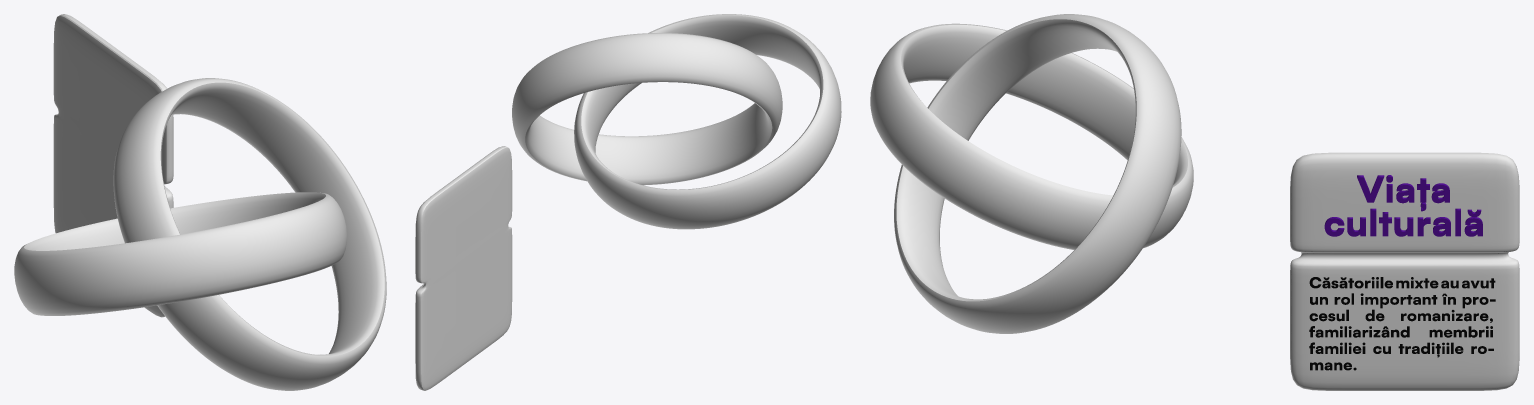
File: Rings scaled.fbx
The picture shows the model from 3 angles, left to right: view 1: azimuth 30°, elevation 25°; view 2: azimuth 150°, elevation 25°; view 3: azimuth 270°, elevation 25°; orthographic projection. The views are drawn at different scales.
Parts seen in each view (by area): view 1: Circle.008, Circle.009, Plane.076; view 2: Circle.008, Circle.009, Plane.076; view 3: Plane.076, Circle.008, Circle.009, Text.014, Text.006.
Boxes of the visible parts, <box> form: Circle.008: <box>113,78,386,390</box>; Circle.009: <box>14,192,346,315</box>; Plane.076: <box>53,14,173,317</box>; Circle.008: <box>512,33,782,185</box>; Circle.009: <box>574,14,841,229</box>; Plane.076: <box>415,146,512,390</box>; Plane.076: <box>1290,152,1519,390</box>; Circle.008: <box>894,14,1181,333</box>; Circle.009: <box>870,23,1193,249</box>; Text.014: <box>1309,277,1495,370</box>; Text.006: <box>1324,175,1482,236</box>.
Size of the model in its own units: 0.3224 by 0.2779 by 0.5072.
